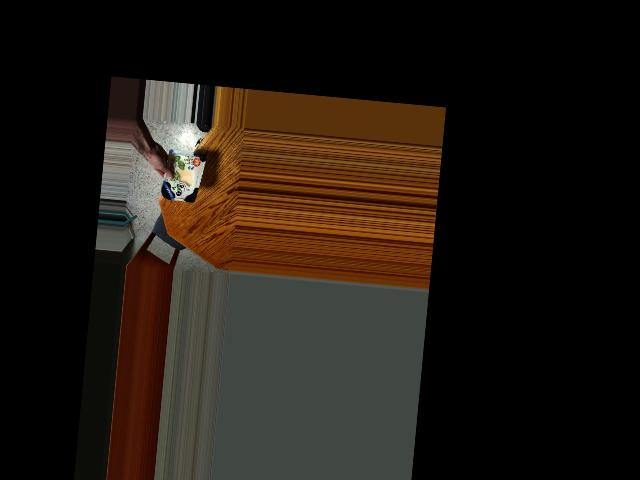cheese: (157, 143, 207, 210)
